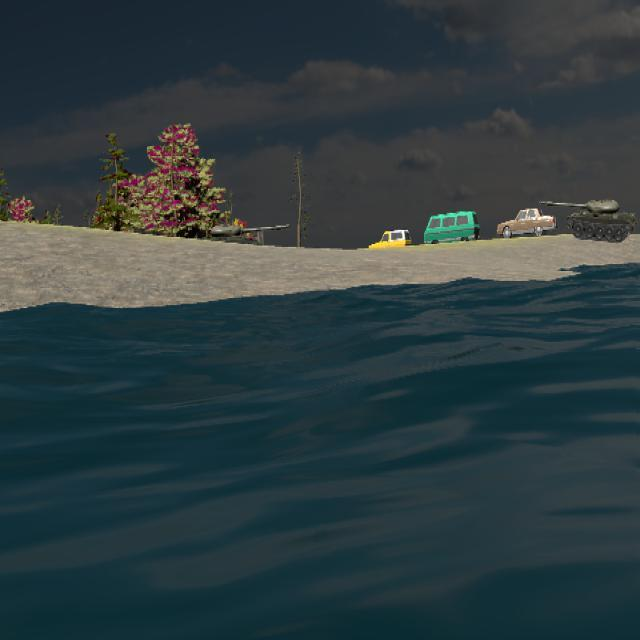Tank: (540, 198, 637, 243), (540, 198, 636, 243)
car: (424, 211, 480, 248), (497, 208, 556, 239), (368, 229, 411, 255)
